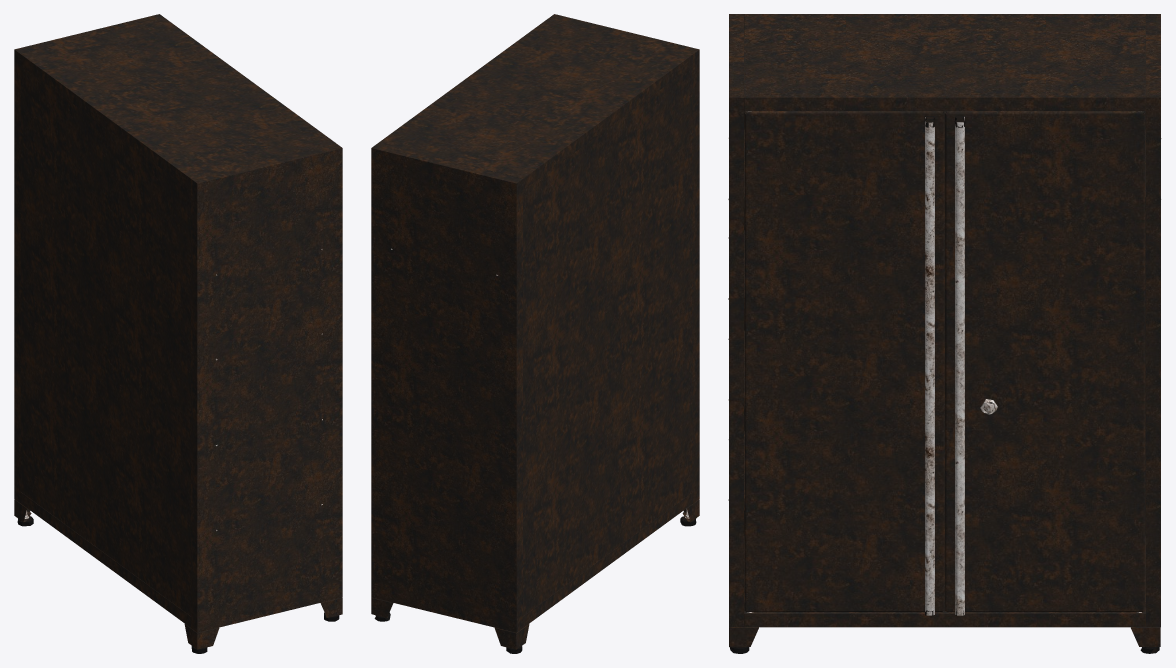
Rendered from shelter_tool_cabinet.glb.
3 renders of one model, left to right at view 1: azimuth 30°, elevation 25°; view 2: azimuth 150°, elevation 25°; view 3: azimuth 270°, elevation 25°, orthographic. The views are drawn at different scales.
Visible parts, largest first — view 1: shelter_tool_cabinet; view 2: shelter_tool_cabinet; view 3: shelter_tool_cabinet.
Part boxes in pixels (bbox=[...]): shelter_tool_cabinet: bbox=[14, 14, 342, 653]; shelter_tool_cabinet: bbox=[371, 14, 699, 653]; shelter_tool_cabinet: bbox=[728, 14, 1161, 653].
Size of the model in its own units: 0.7119 by 2.05 by 1.45.
Materials: 4 (4 with a texture image).
